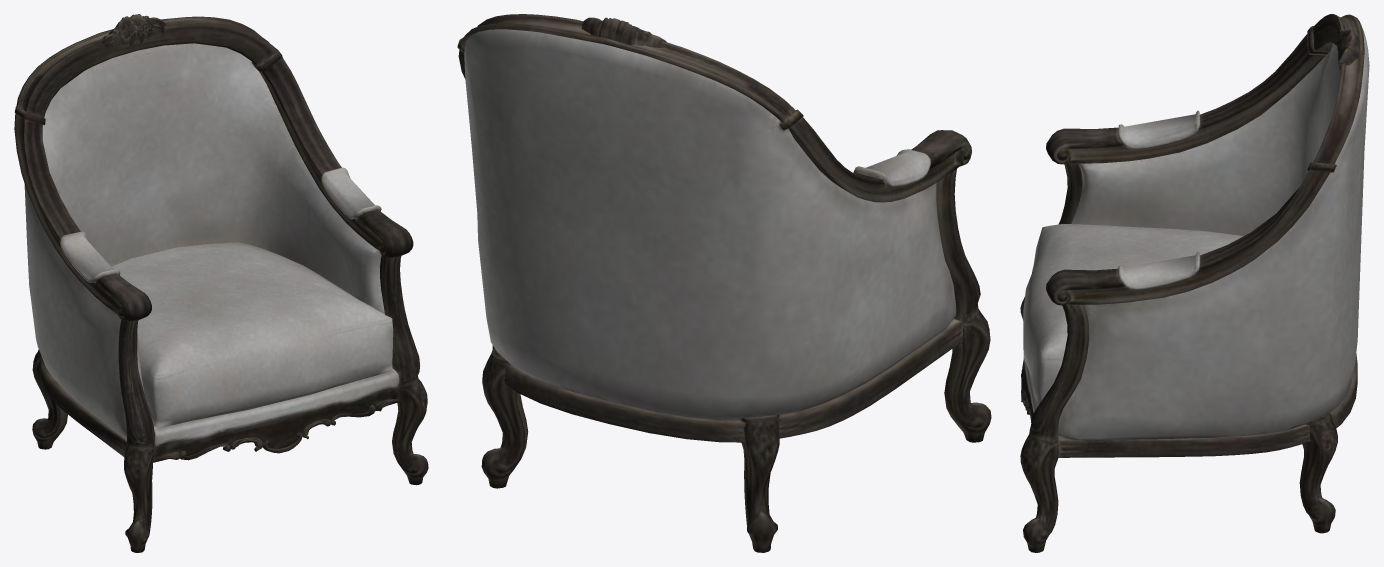
The model's file is ArmChair_01.glb.
The picture shows the model from 3 angles, left to right: view 1: azimuth 30°, elevation 25°; view 2: azimuth 150°, elevation 25°; view 3: azimuth 270°, elevation 25°; orthographic projection. The views are drawn at different scales.
Parts seen in each view (by area): view 1: ArmChair_01; view 2: ArmChair_01; view 3: ArmChair_01.
Boxes of the visible parts, x1,y1,x2,y2 form: ArmChair_01: [14, 14, 428, 552]; ArmChair_01: [457, 14, 991, 552]; ArmChair_01: [1020, 14, 1369, 552].
Bounding box in the file's own units: 0.8484 × 1.07 × 0.7658.
Materials: 1 (1 with a texture image).
